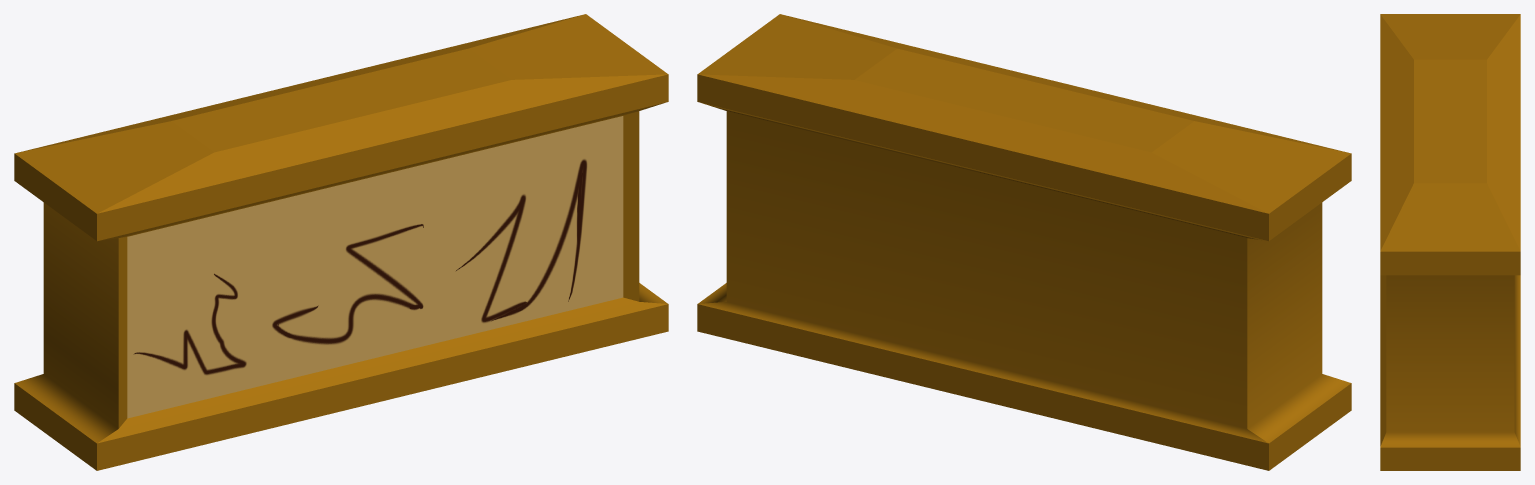
Rendered from Okay Seal.fbx.
3 views of the same model, side by side, from view 1: azimuth 30°, elevation 25°; view 2: azimuth 150°, elevation 25°; view 3: azimuth 270°, elevation 25° (orthographic). The views are drawn at different scales.
Visible parts, largest first — view 1: pCube1; view 2: pCube1; view 3: pCube1.
Part boxes in pixels (x1,y1,x2,y2): pCube1: (14,14,668,470); pCube1: (697,14,1351,470); pCube1: (1380,14,1520,470).
Size of the model in its own units: 21.95 by 10.42 by 5.49.
2 materials, 2 textured.
